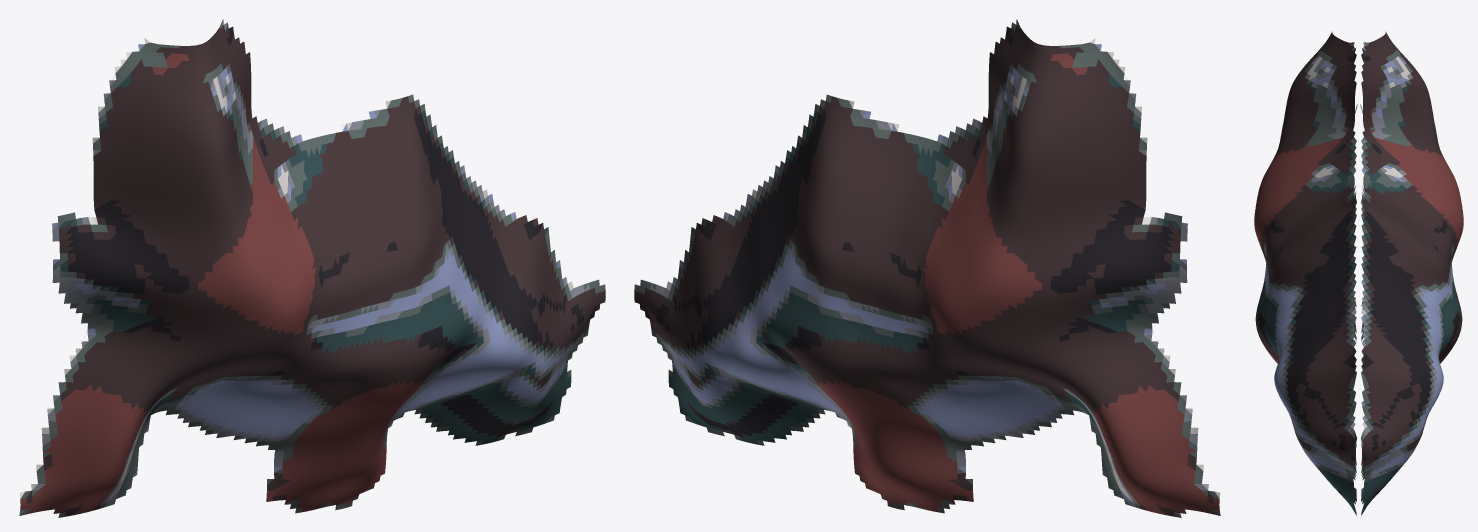
Rendered from booktoise.glb.
3 views of the same model, side by side, from view 1: azimuth 30°, elevation 25°; view 2: azimuth 150°, elevation 25°; view 3: azimuth 270°, elevation 25° (orthographic). The views are drawn at different scales.
Parts seen in each view (by area): view 1: booktoise; view 2: booktoise; view 3: booktoise.
Boxes of the visible parts, x1=… form: booktoise: x1=19, y1=19, x2=605, y2=517; booktoise: x1=634, y1=19, x2=1220, y2=517; booktoise: x1=1254, y1=31, x2=1463, y2=516.
Size of the model in its own units: 998 by 846 by 420.
